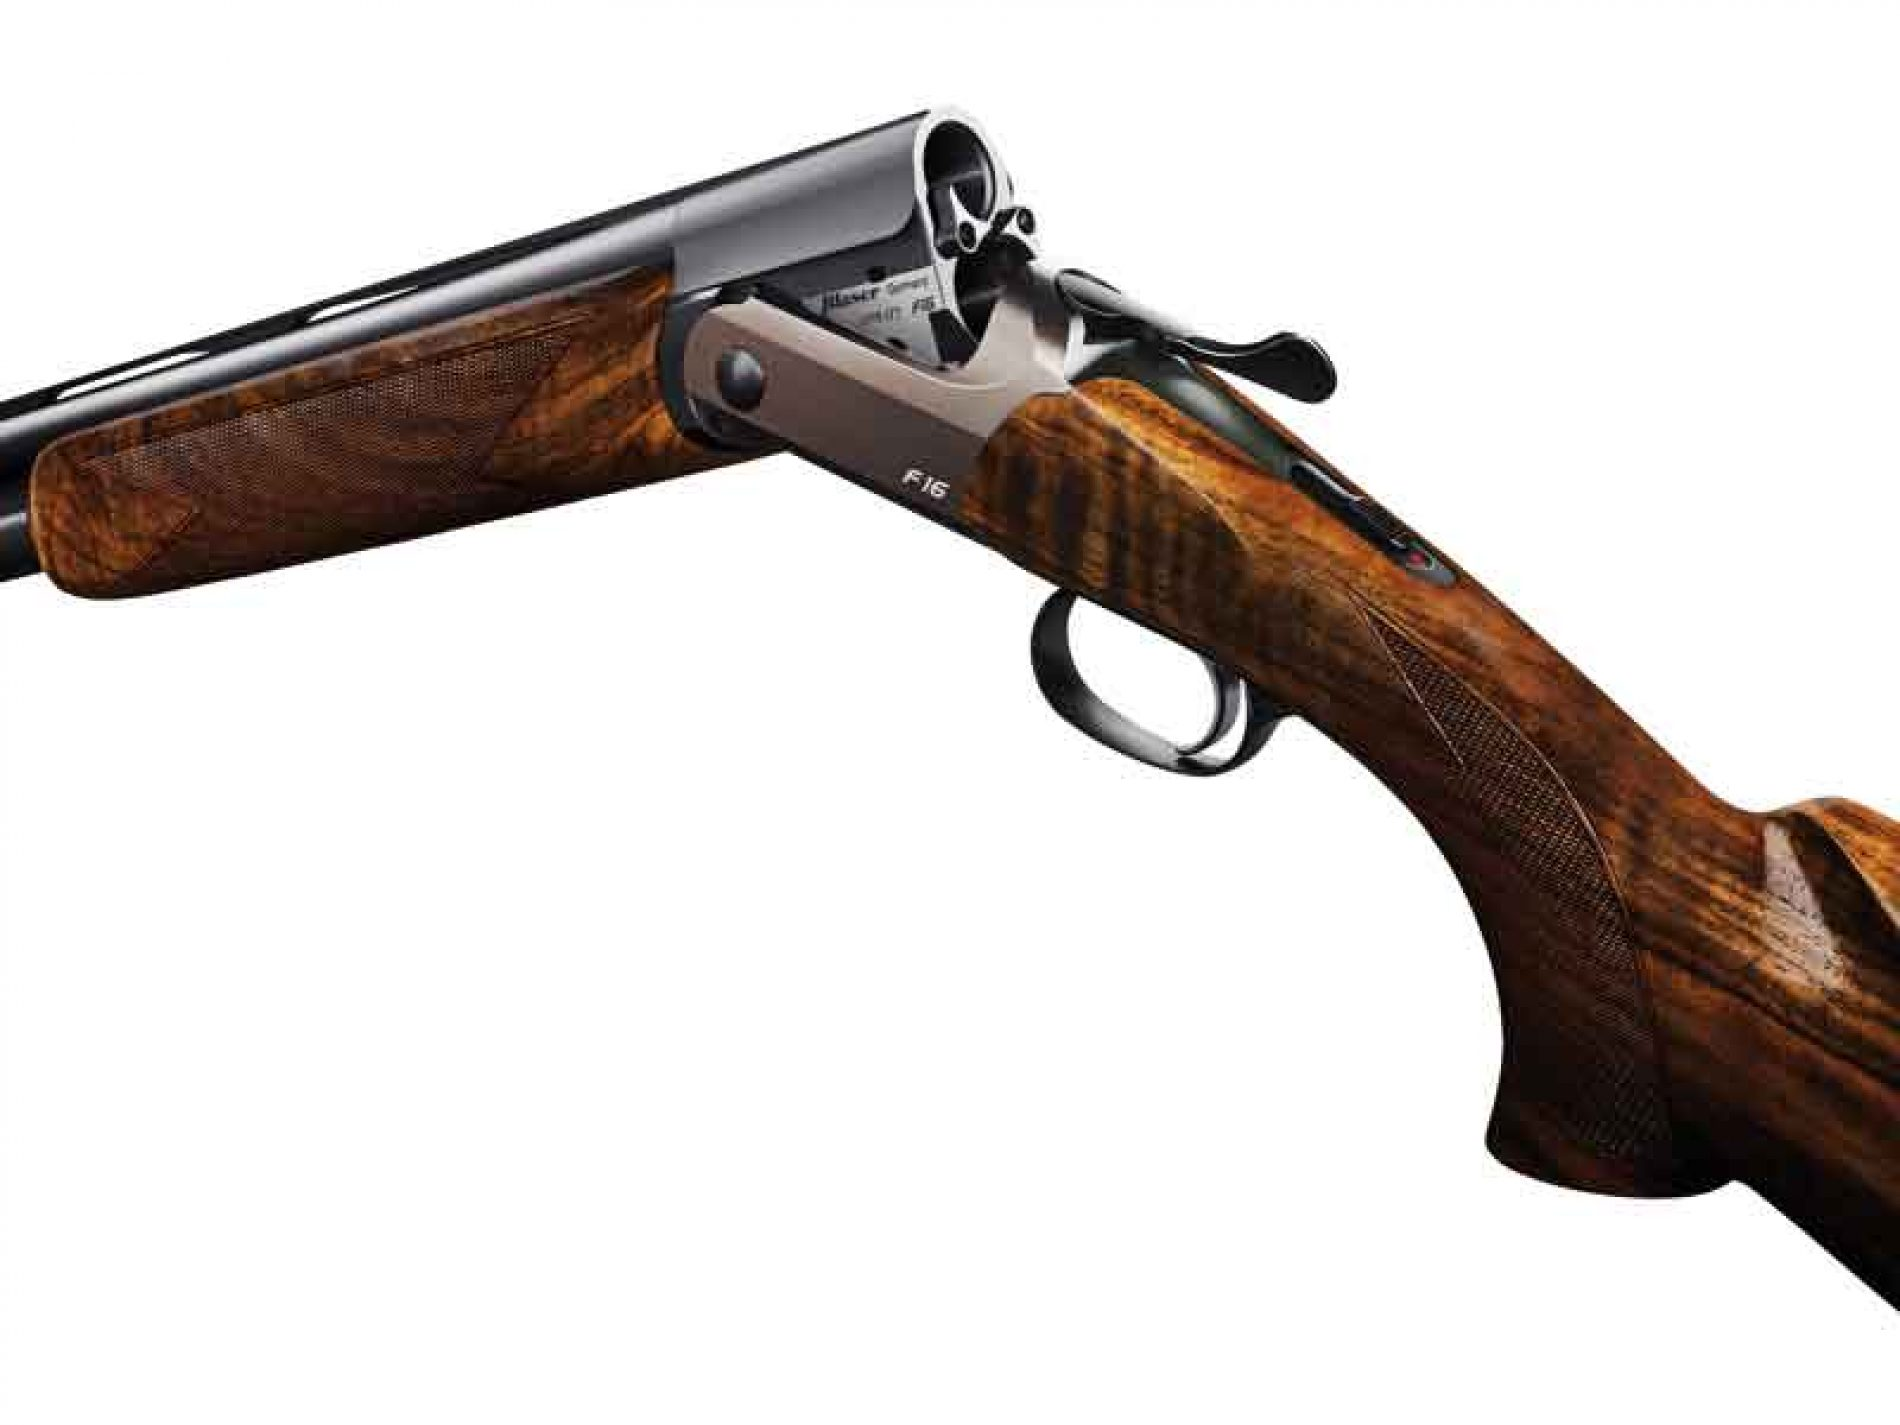weapon: (6, 105, 1900, 1314)
